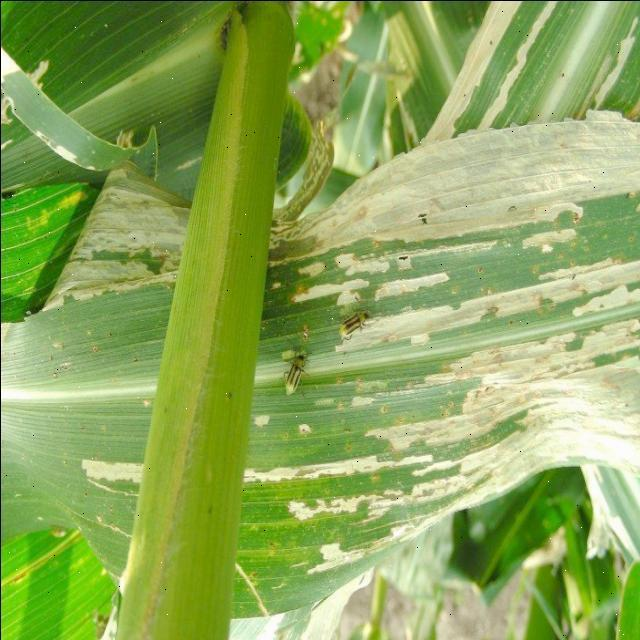trips: (278, 340, 310, 405), (336, 298, 370, 342)
